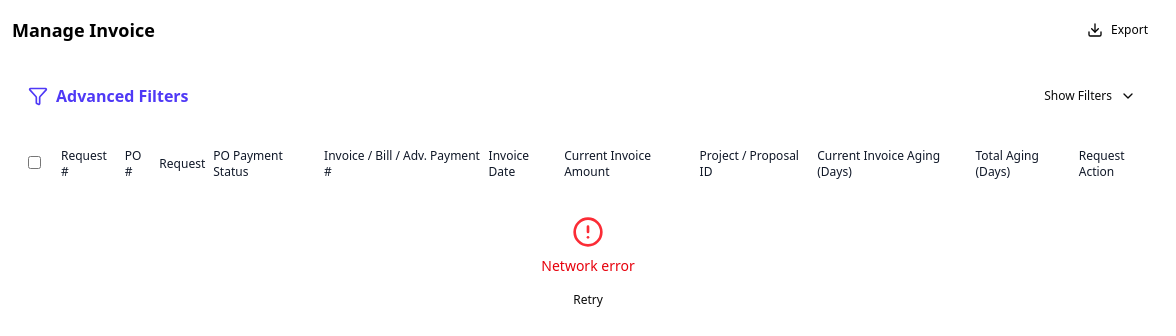
Test: InvoicesContent Component › should retry on error
Check: the text "Network error" is shown, box [541,256,635,276]
Step 1. Click the button "Retry" → (588, 300), box [561,284,615,316]
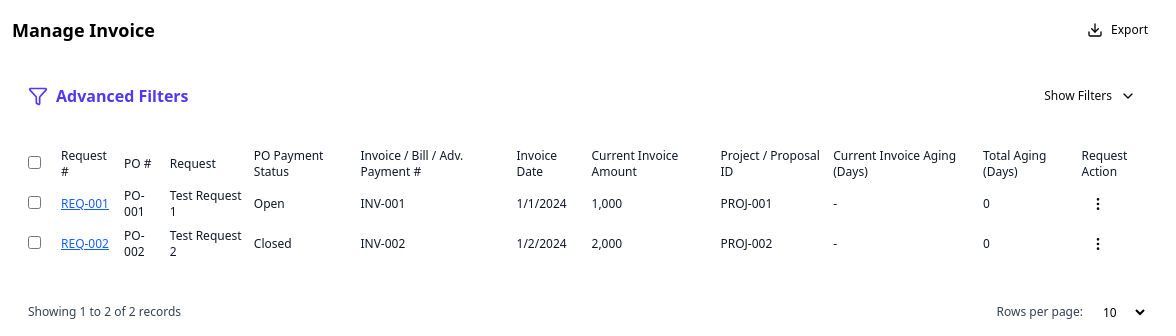
Check: the button "REQ-001" is shown, box [61,196,109,212]
